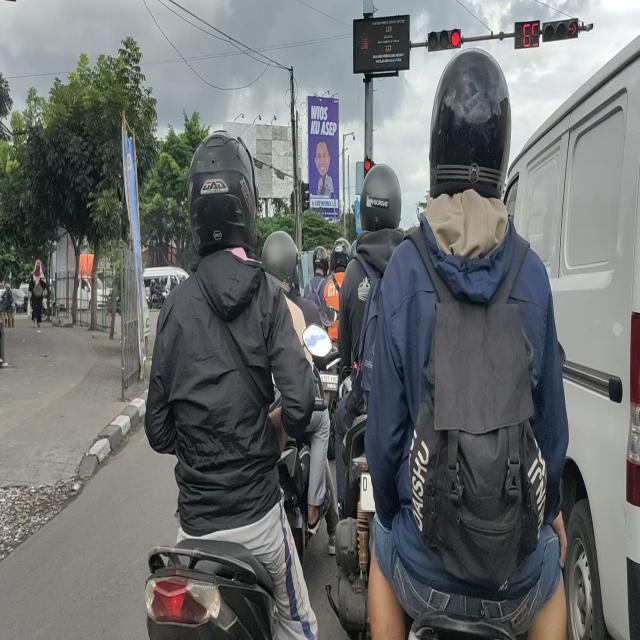helmet: (429, 48, 511, 208), (188, 138, 260, 252), (361, 165, 401, 238), (266, 228, 300, 293), (309, 245, 329, 280), (333, 243, 351, 274)
